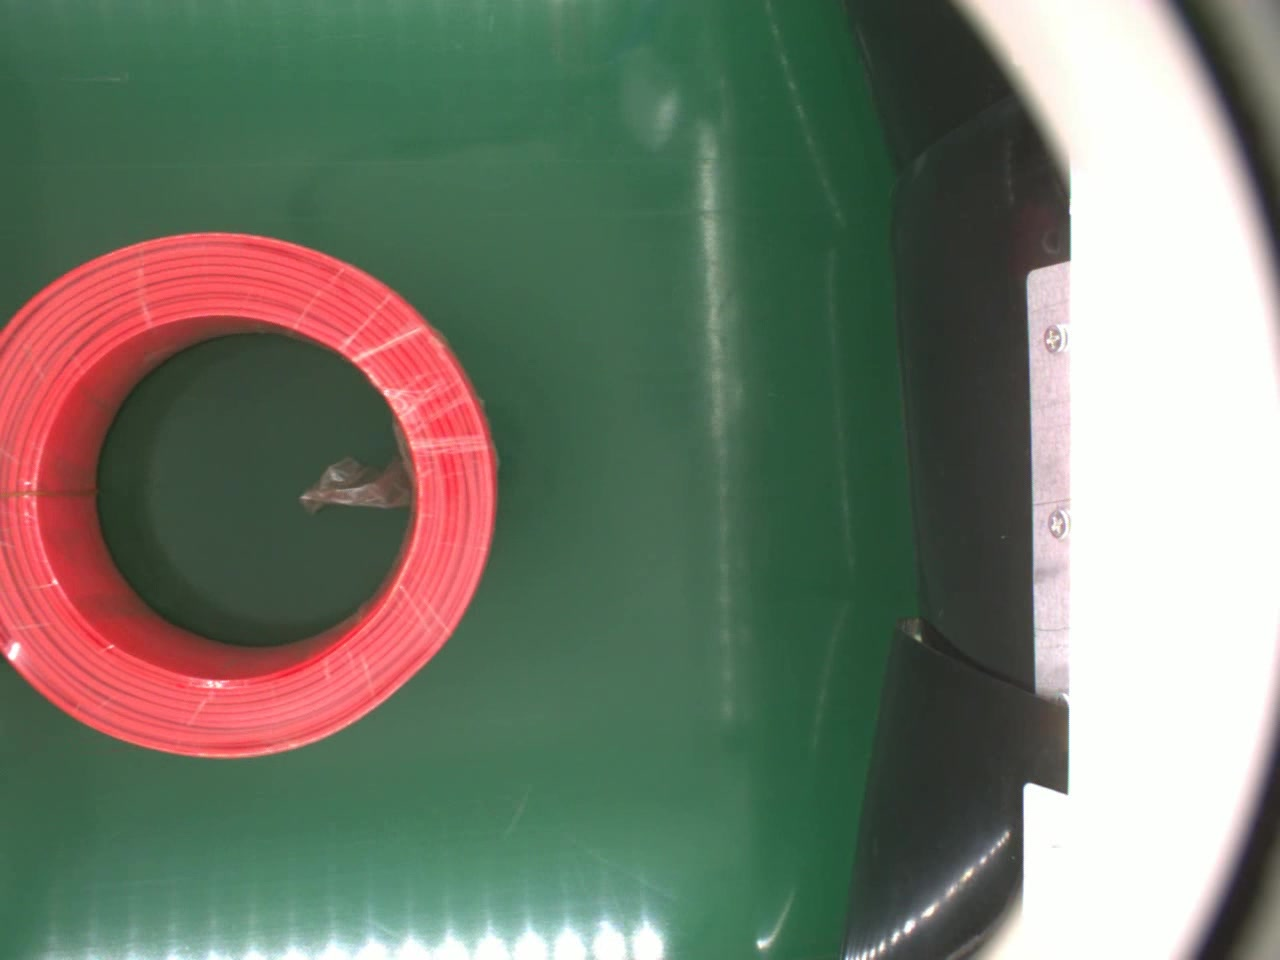red: (0, 225, 506, 763)
